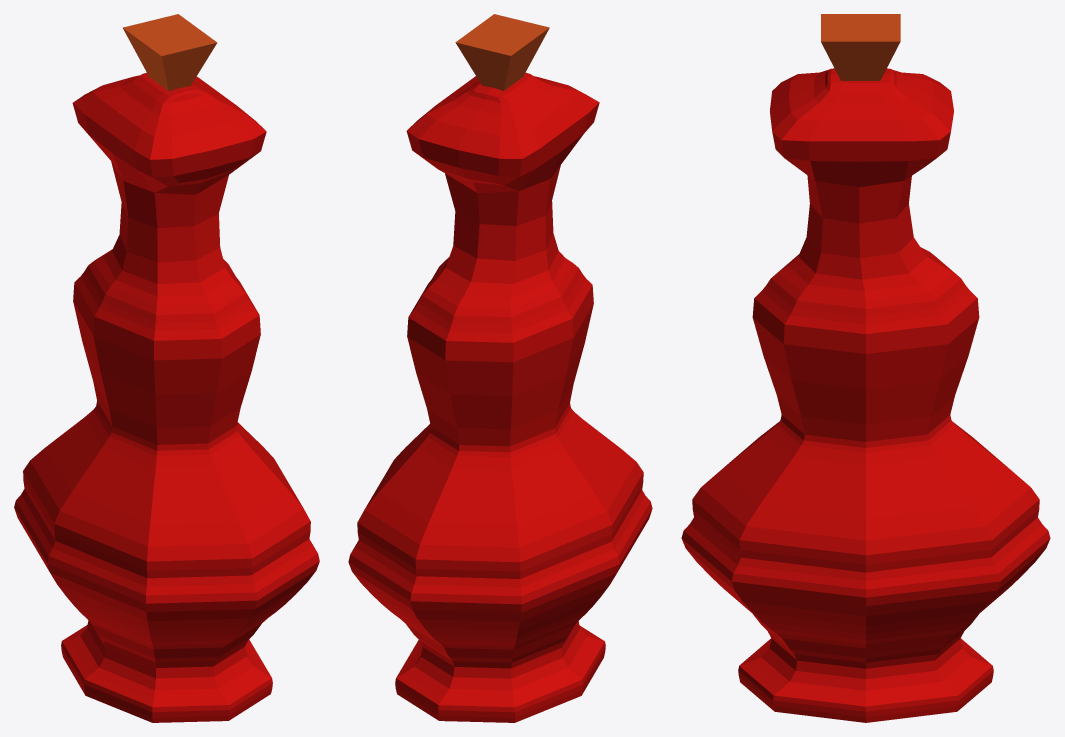
File: Healing_potion.obj
The picture shows the model from 3 angles, left to right: view 1: azimuth 30°, elevation 25°; view 2: azimuth 150°, elevation 25°; view 3: azimuth 270°, elevation 25°; orthographic projection. The views are drawn at different scales.
Parts seen in each view (by area): view 1: Cube_Cube.002, Cube.001; view 2: Cube_Cube.002, Cube.001; view 3: Cube_Cube.002, Cube.001.
Part boxes in pixels (x1,y1,x2,y2): Cube_Cube.002: (14, 72, 319, 722); Cube.001: (123, 14, 217, 91); Cube_Cube.002: (348, 72, 652, 722); Cube.001: (455, 14, 549, 90); Cube_Cube.002: (681, 68, 1050, 722); Cube.001: (821, 14, 900, 80).
Size of the model in its own units: 3.22 by 8.33 by 4.22.
